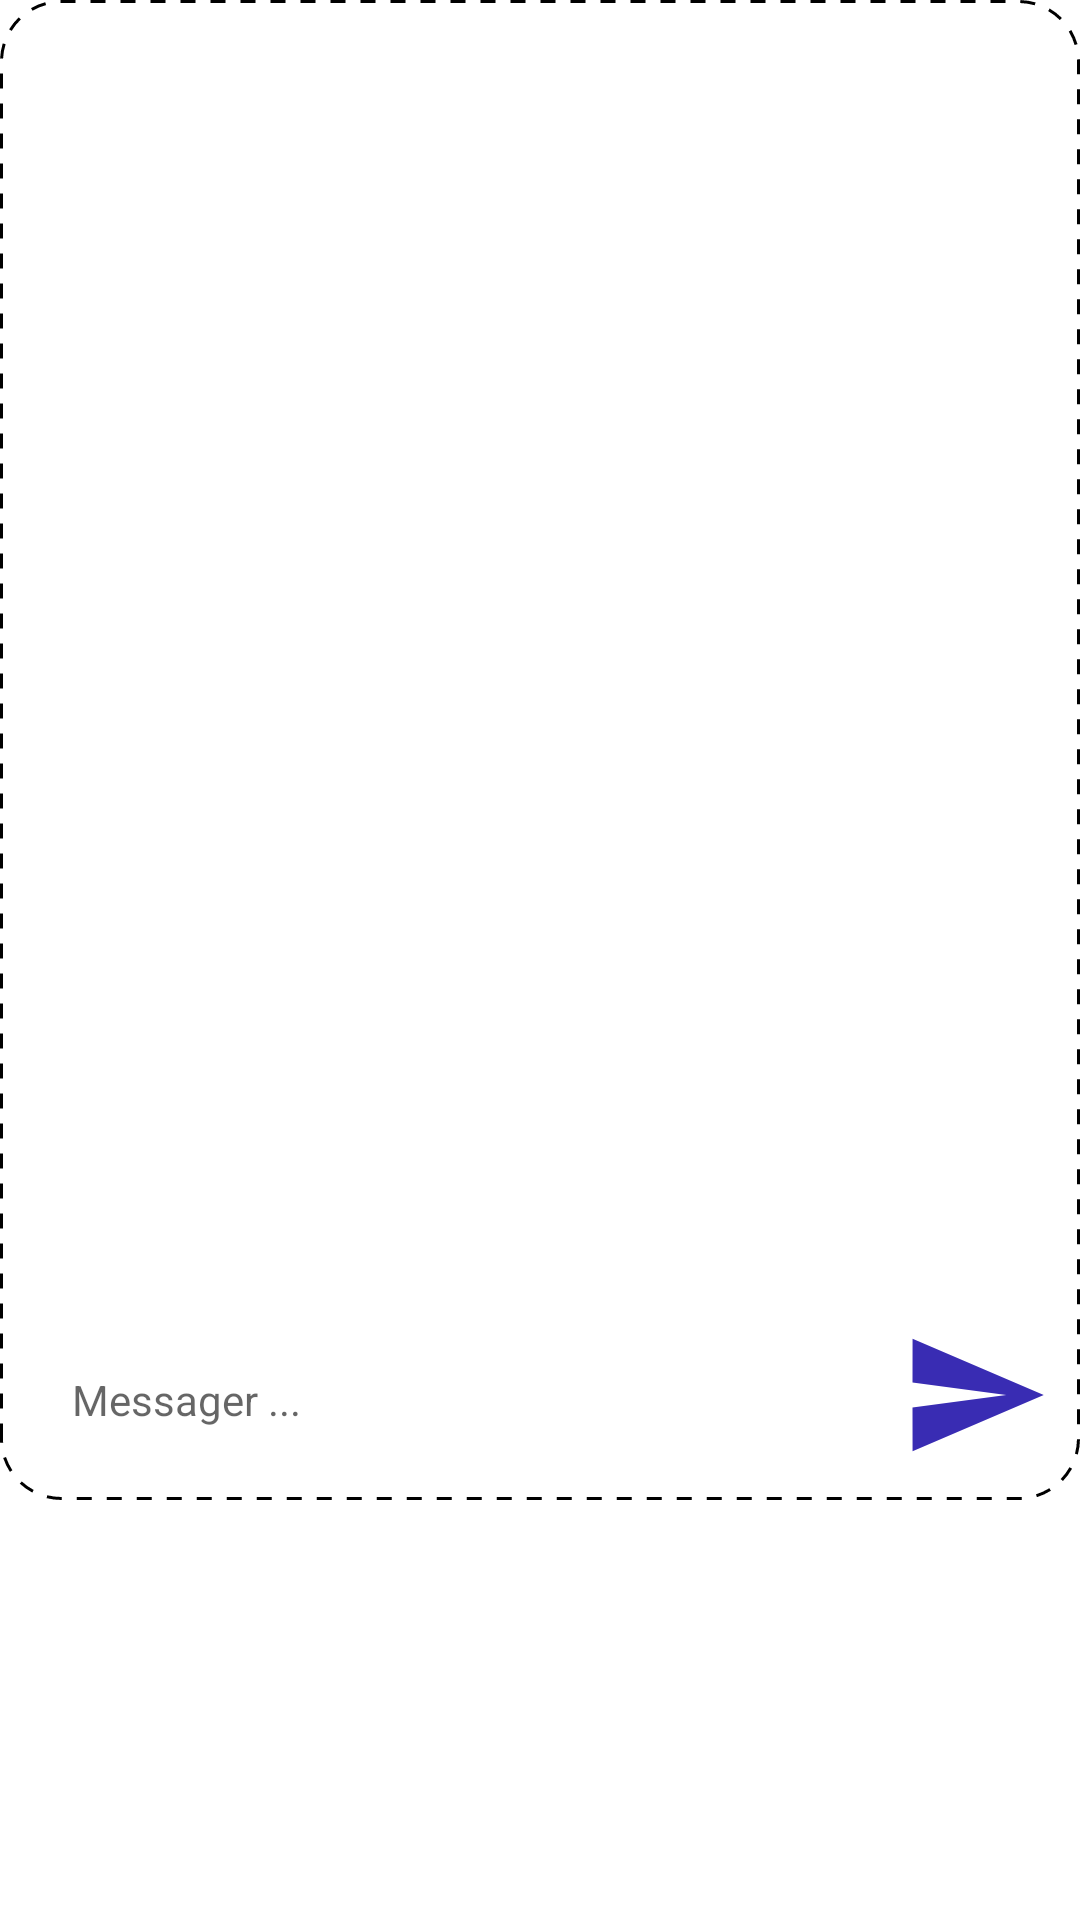

Named icons in this screenshot (1080 x 1920) and their centers, point (x, y):
send: point (977, 1395)
